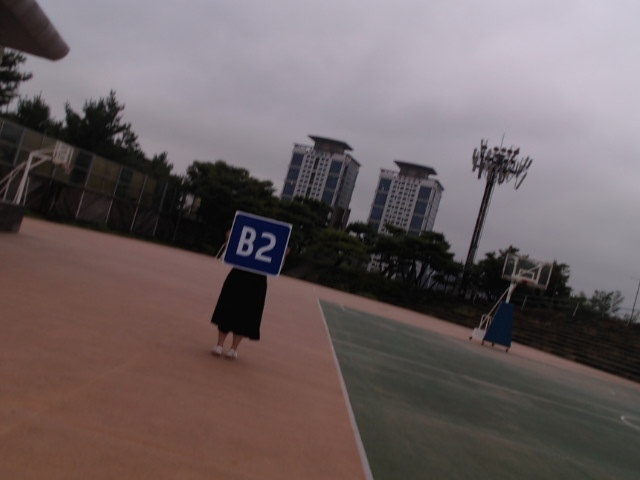delivery_b2: (223, 212, 292, 277)
